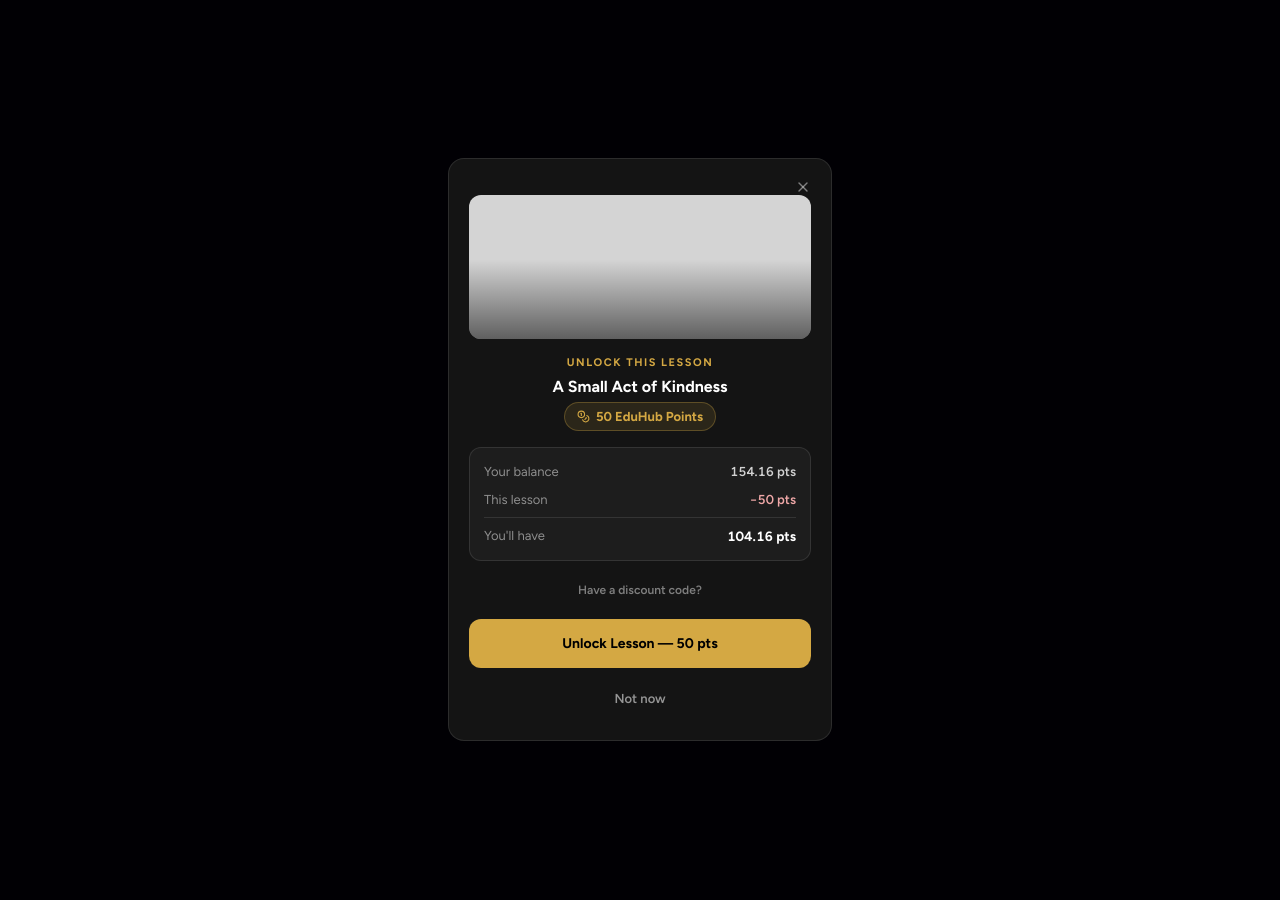
Test: discount code at checkout › an invalid-coupon rejection shows a dedicated, retryable error distinct from a generic failure
The width and height of the screenshot is (1280, 900).
Click the button with test id "video-purchase-coupon-toggle-button" at x=640, y=591, box [469, 578, 811, 604]
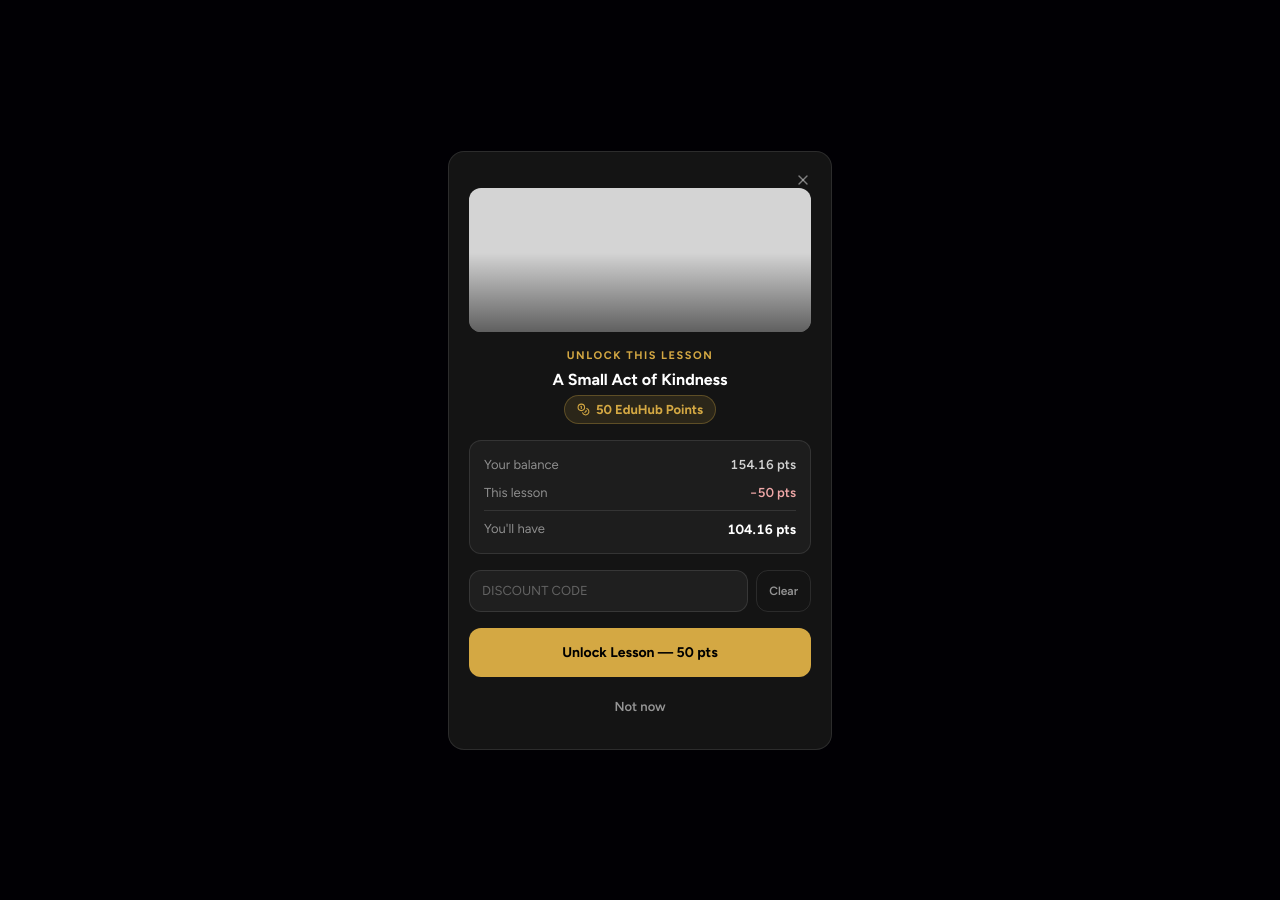
Type "OLDCODE" into the field with test id "video-purchase-coupon-input" at x=609, y=591, box [469, 570, 748, 611]
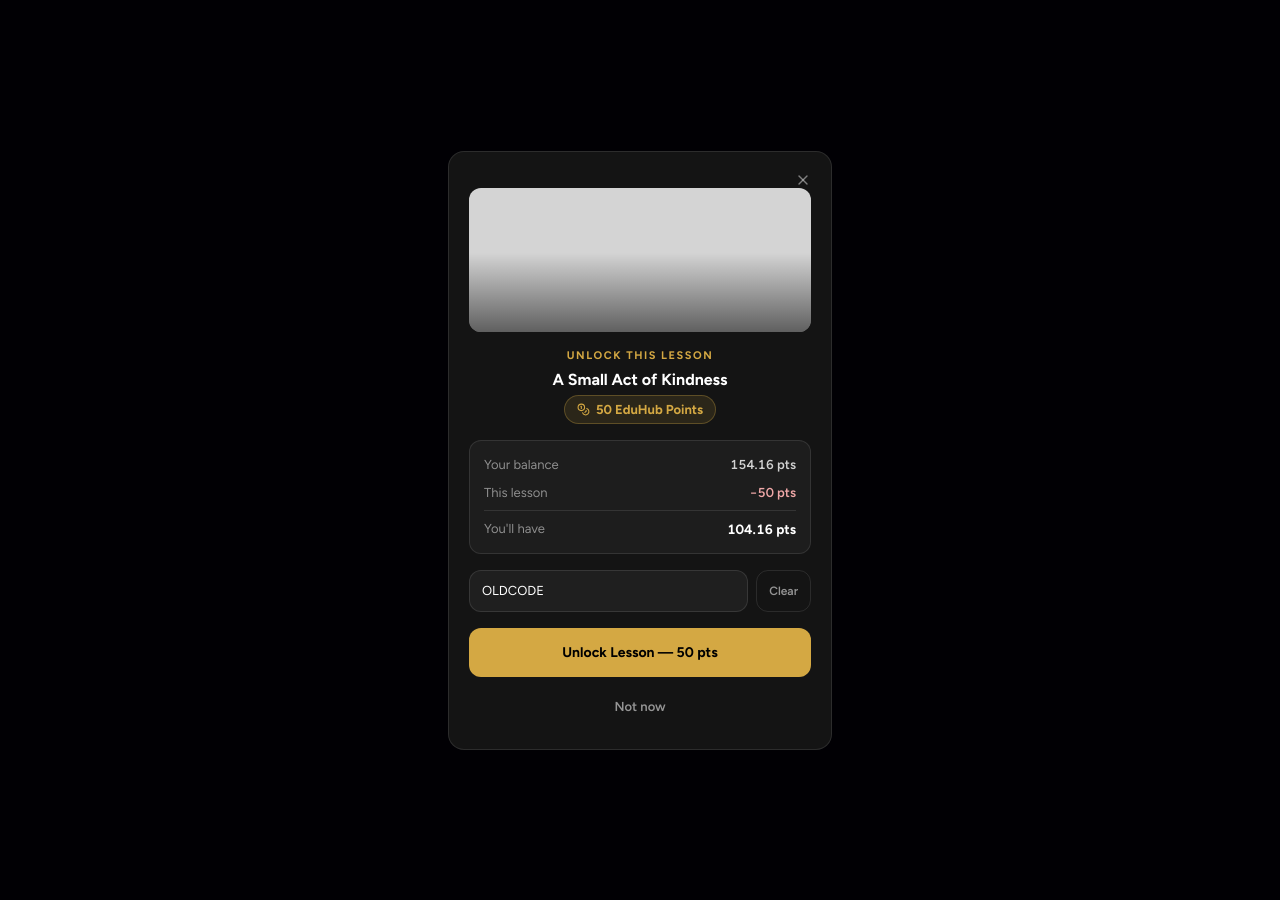
Click the button with test id "video-purchase-confirm-button" at x=640, y=652, box [469, 627, 811, 676]
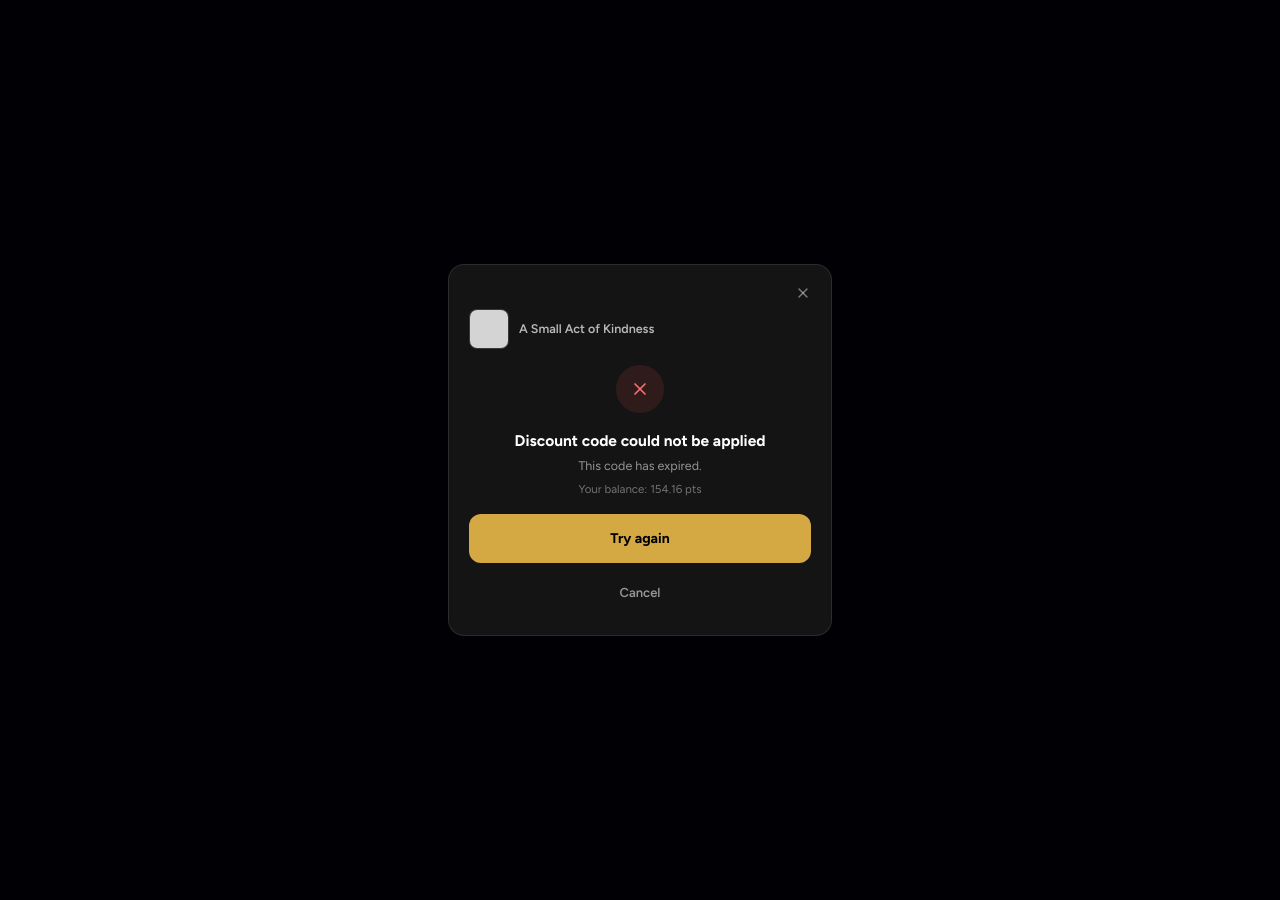
Now the element with test id "video-purchase-error" is shown, box [469, 301, 811, 615]
Now the heading "Discount code could not be applied" is shown, box [514, 431, 765, 450]
Now the text "This code has expired." is shown, box [578, 458, 702, 473]
